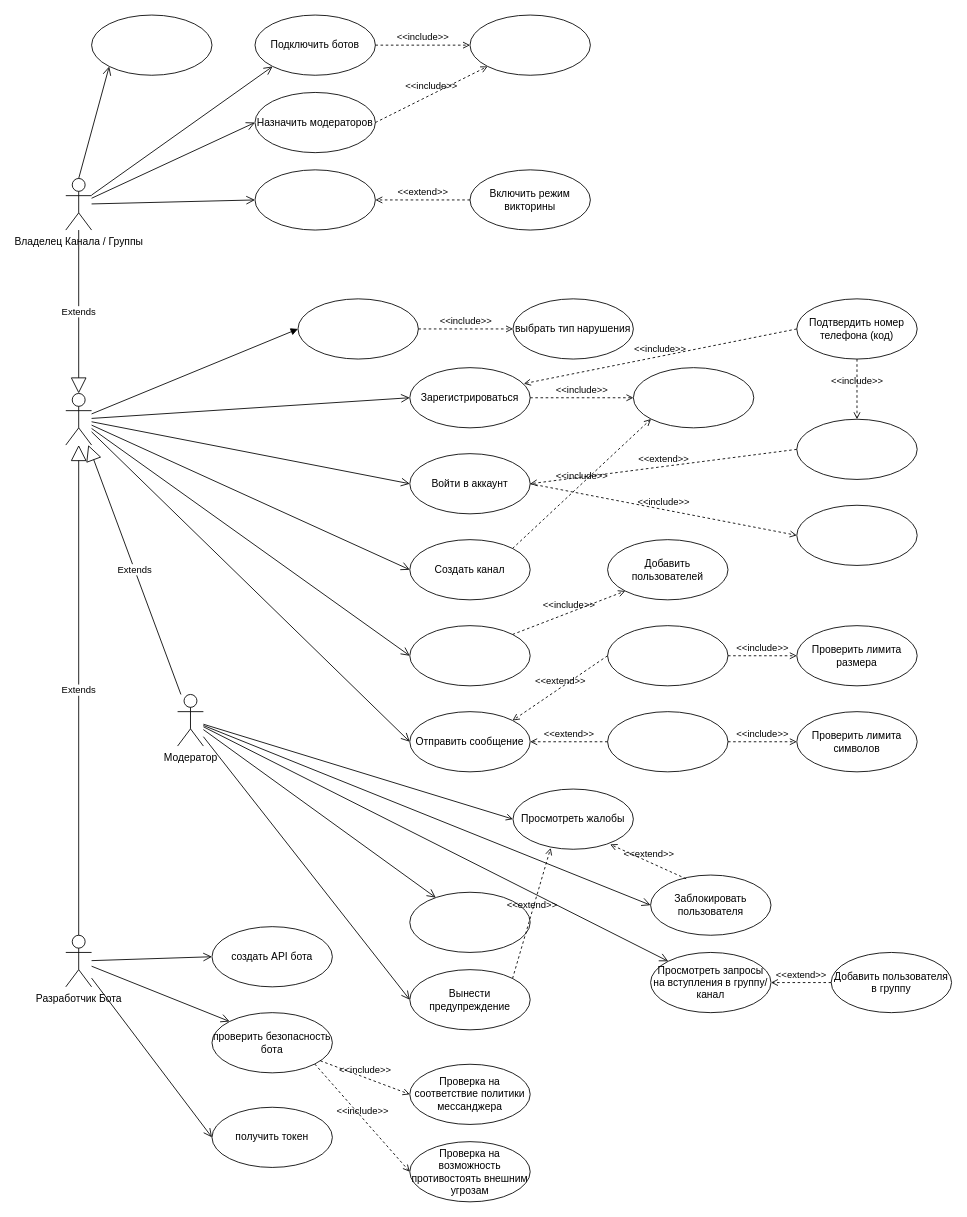
The diagram is 967 pixels wide and 1217 high, and some of its shapes have lost their labels. The shapes that lost their labels are listed below. From the top down, each one's box as (x1, y1, x2, y2) in pixels, then its label:
(91, 14, 212, 75): Отметить пост как рекламу
(469, 14, 590, 75): Назначить права
(254, 169, 375, 230): Провести голосование
(297, 298, 418, 359): Оформить жалобу
(633, 367, 754, 428): Проверить доступность id
(65, 393, 92, 445): Пользователь
(796, 418, 917, 479): Восстановить аккаунт
(796, 504, 917, 565): Проверить данные
(409, 625, 530, 686): Создать группу
(607, 625, 728, 686): Прикрипить файл к сообщению
(607, 711, 728, 772): Ввести текст
(409, 891, 530, 952): Разблокировать пользователя
